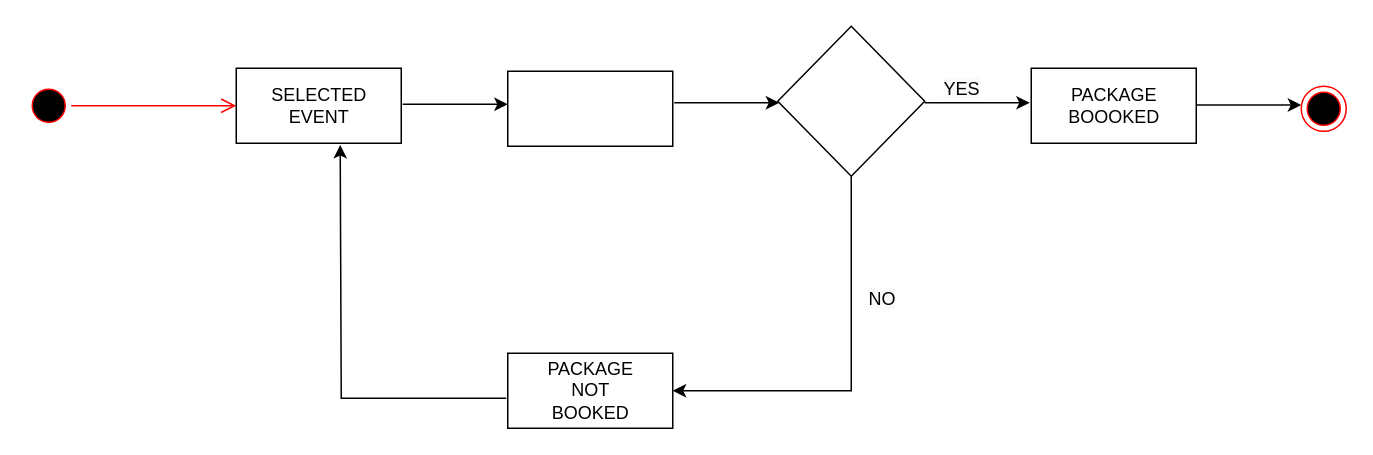
The diagram is 1373 pixels wide and 455 high, and some of its shapes have lost their labels. Here are the shapes that lost their labels. From the top down, the box of each, then its label:
(506, 70, 673, 146): SELECTED PACKAGE
(776, 25, 925, 176): CHECK IF BOOKED
